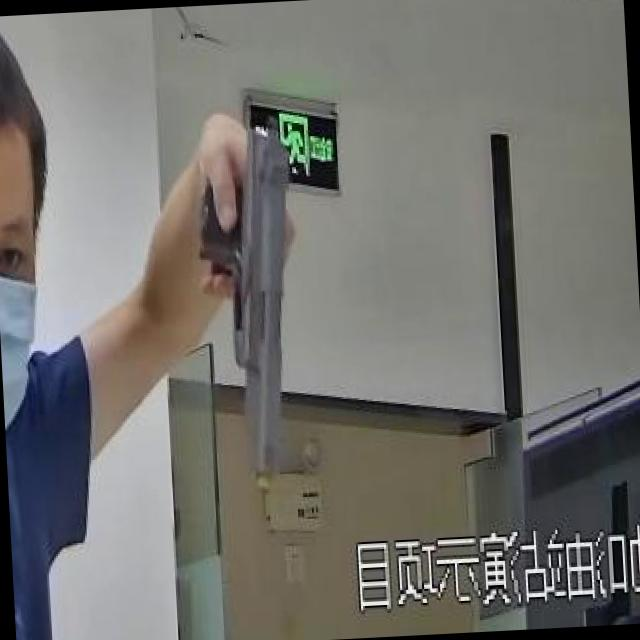Guns: (166, 104, 343, 477)
